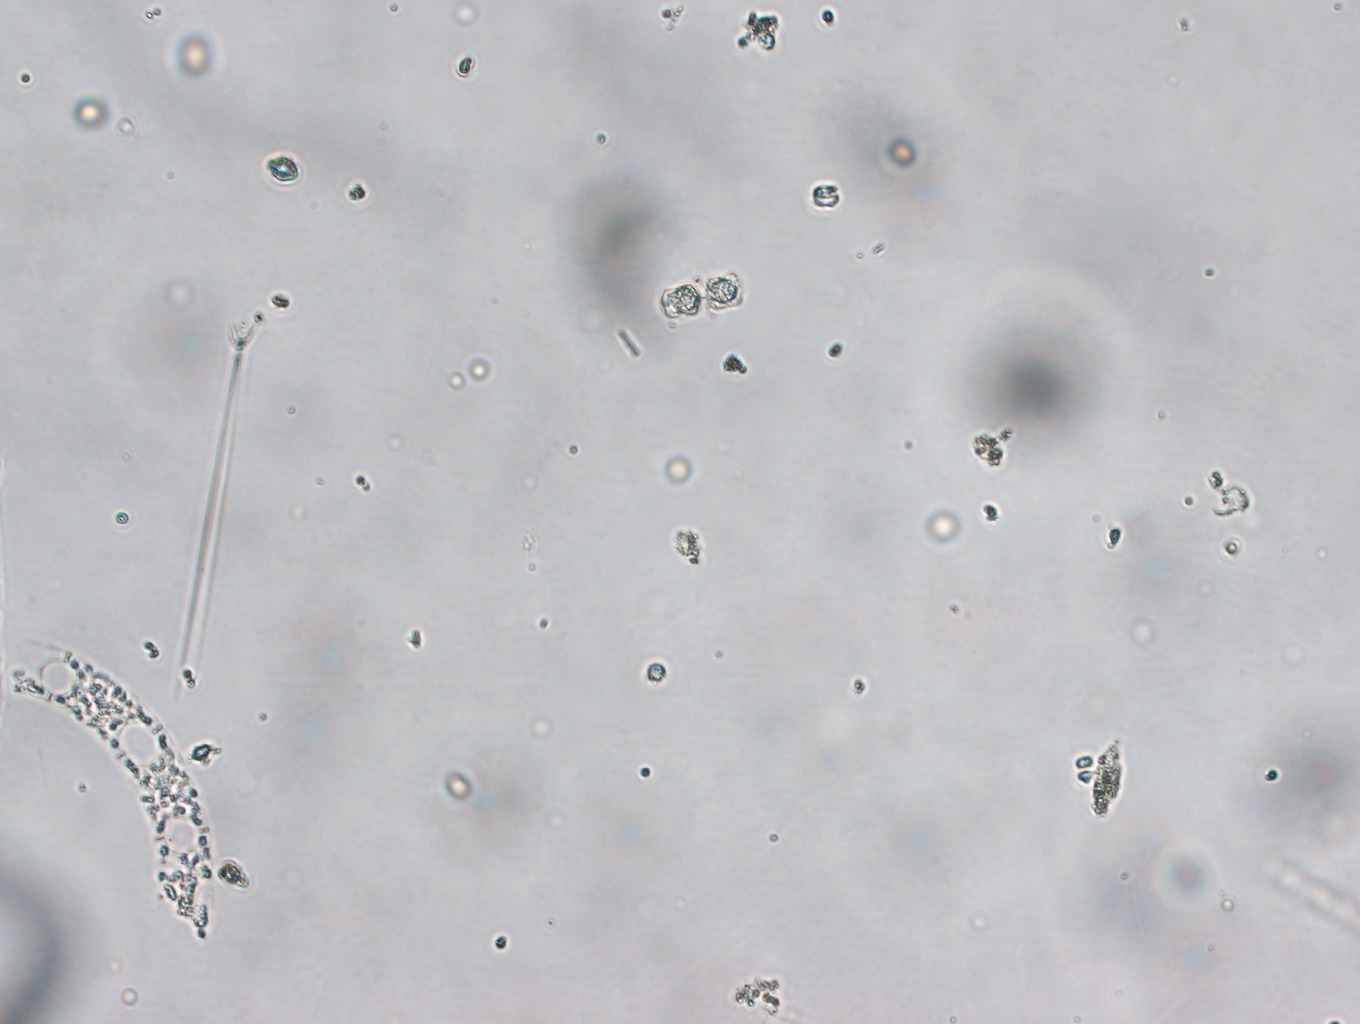eucampia: (1, 638, 227, 950)
